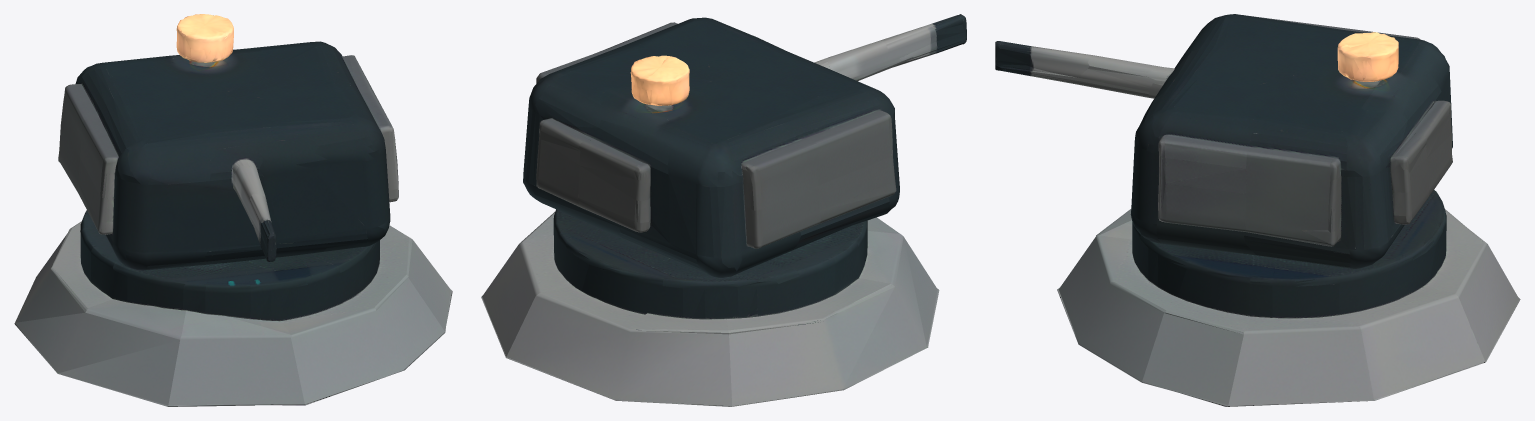
File: autocannon.glb
3 views of the same model, side by side, from view 1: azimuth 30°, elevation 25°; view 2: azimuth 150°, elevation 25°; view 3: azimuth 270°, elevation 25° (orthographic). The views are drawn at different scales.
Bounding box in the file's own units: 0.877 × 0.5762 × 1.
Materials: 1 (1 with a texture image).
